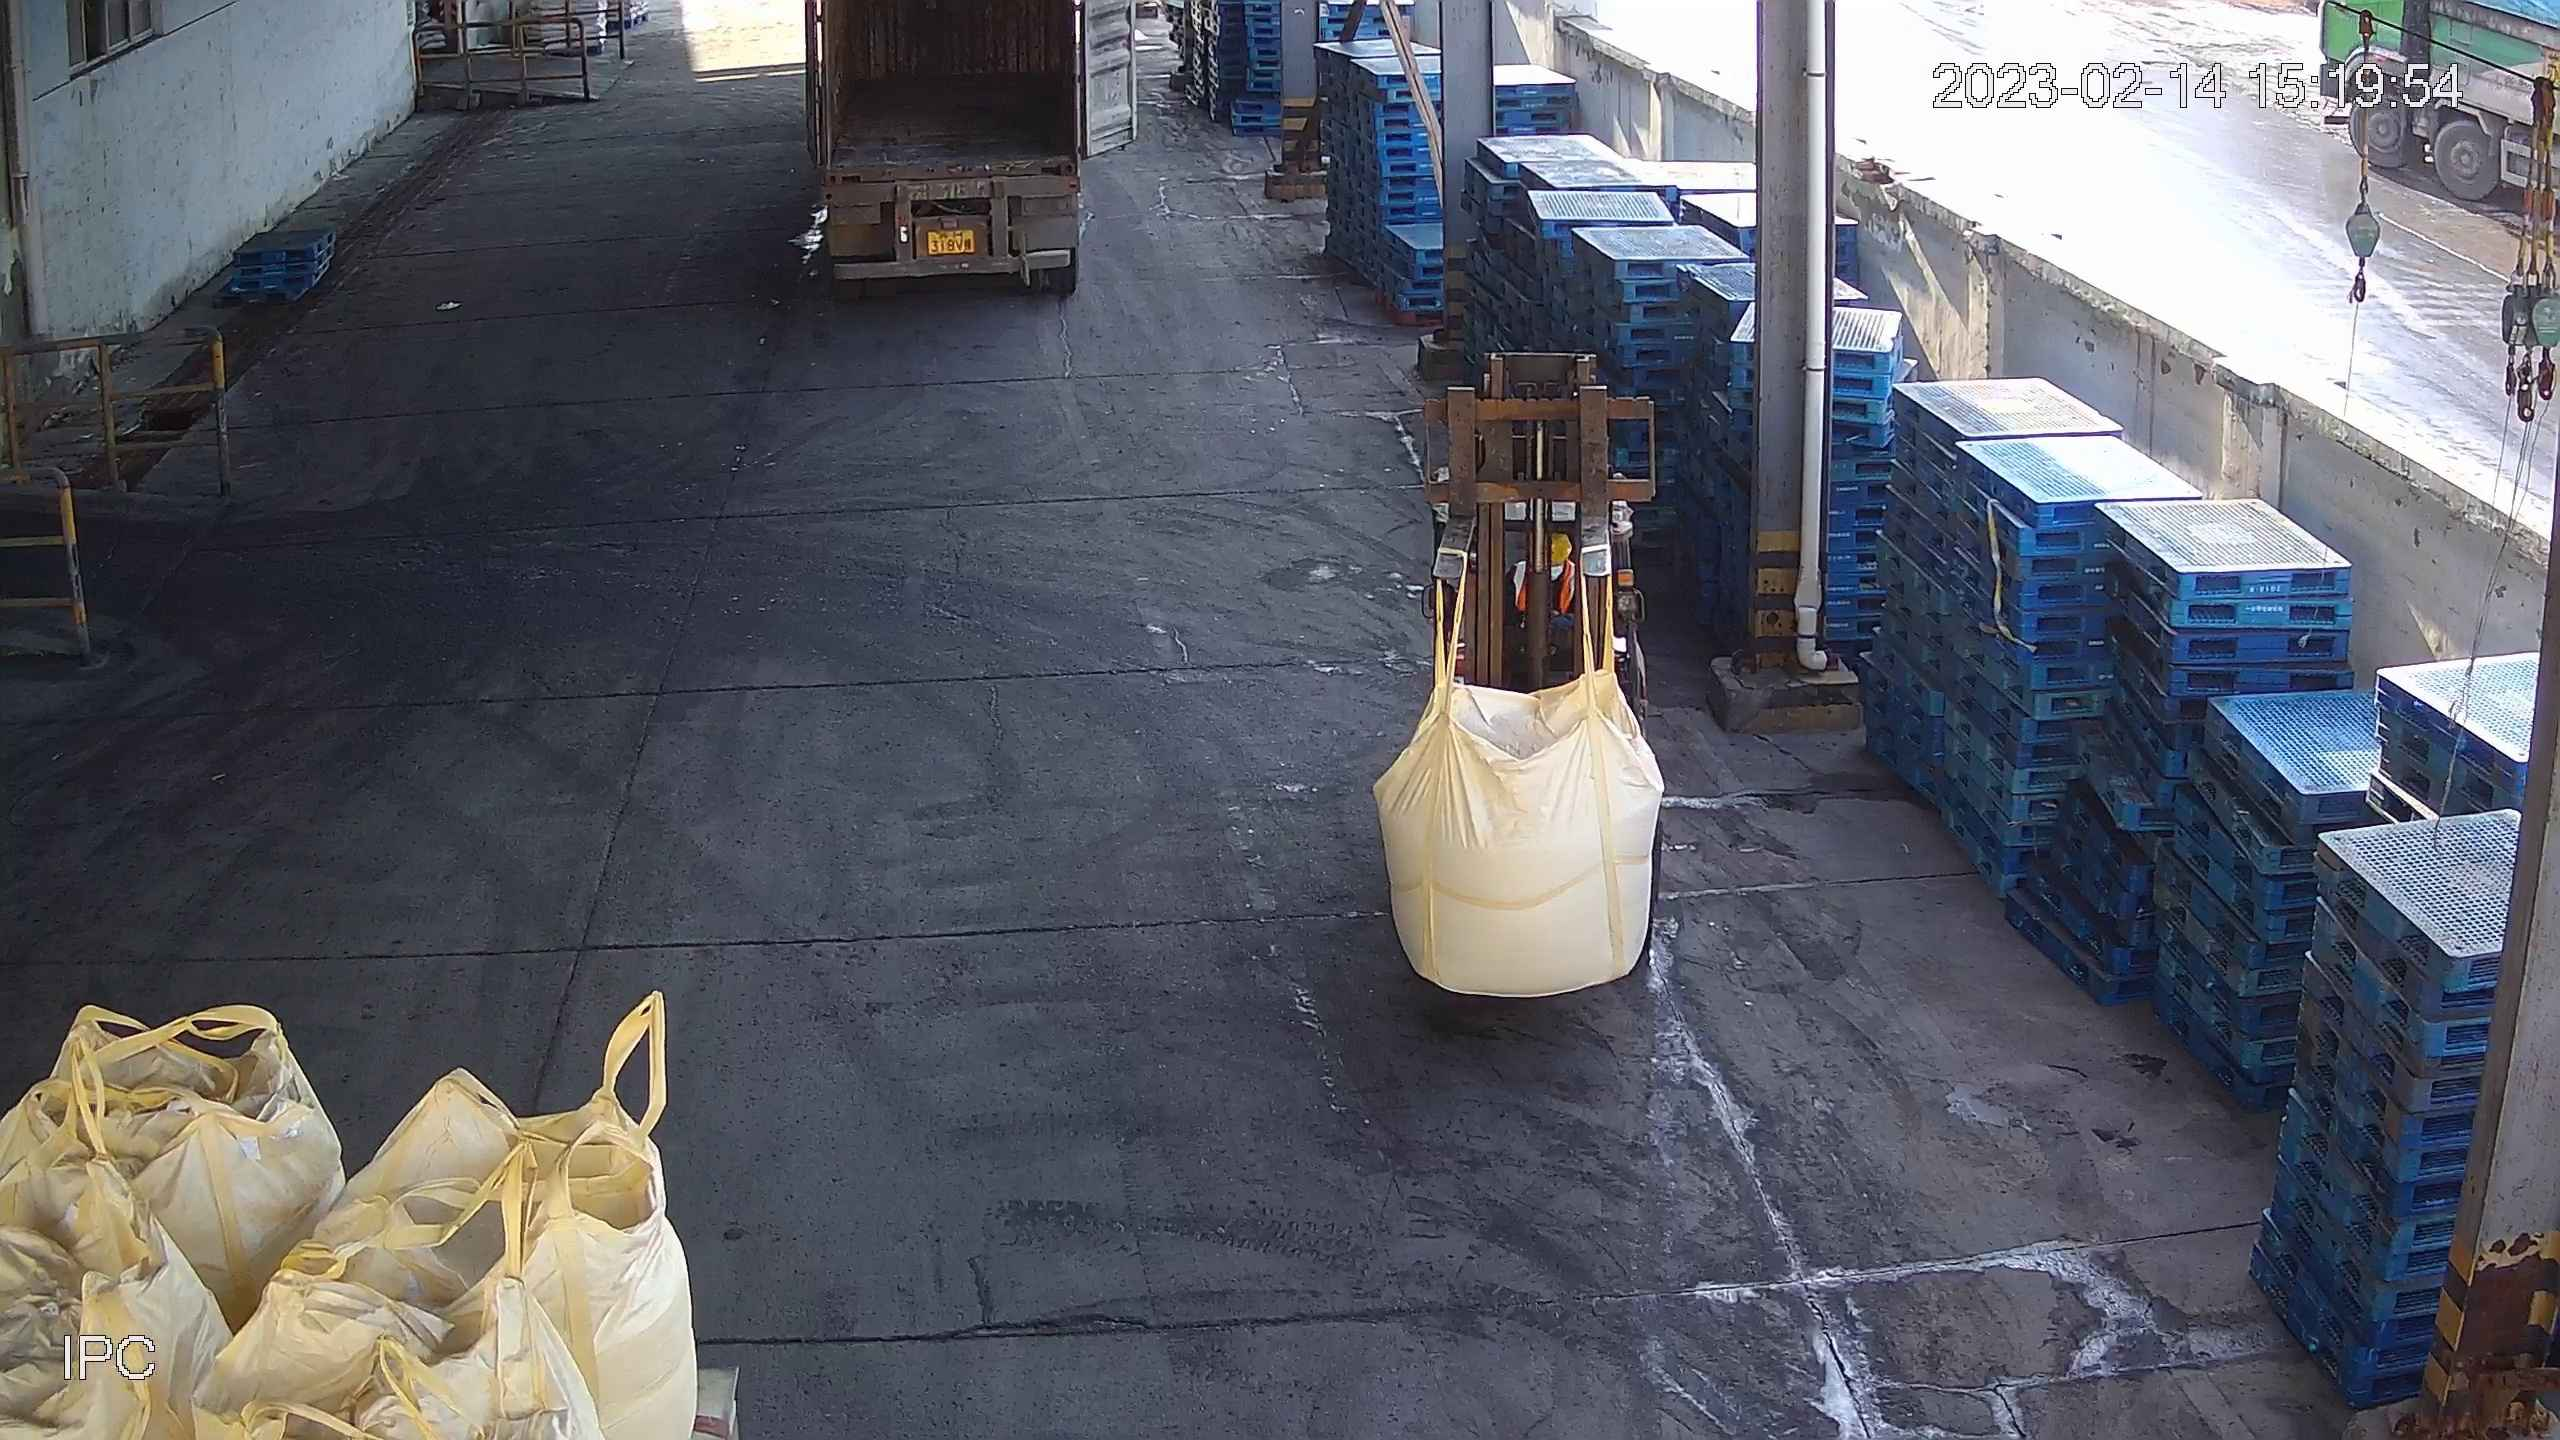truck: (784, 2, 1109, 315)
